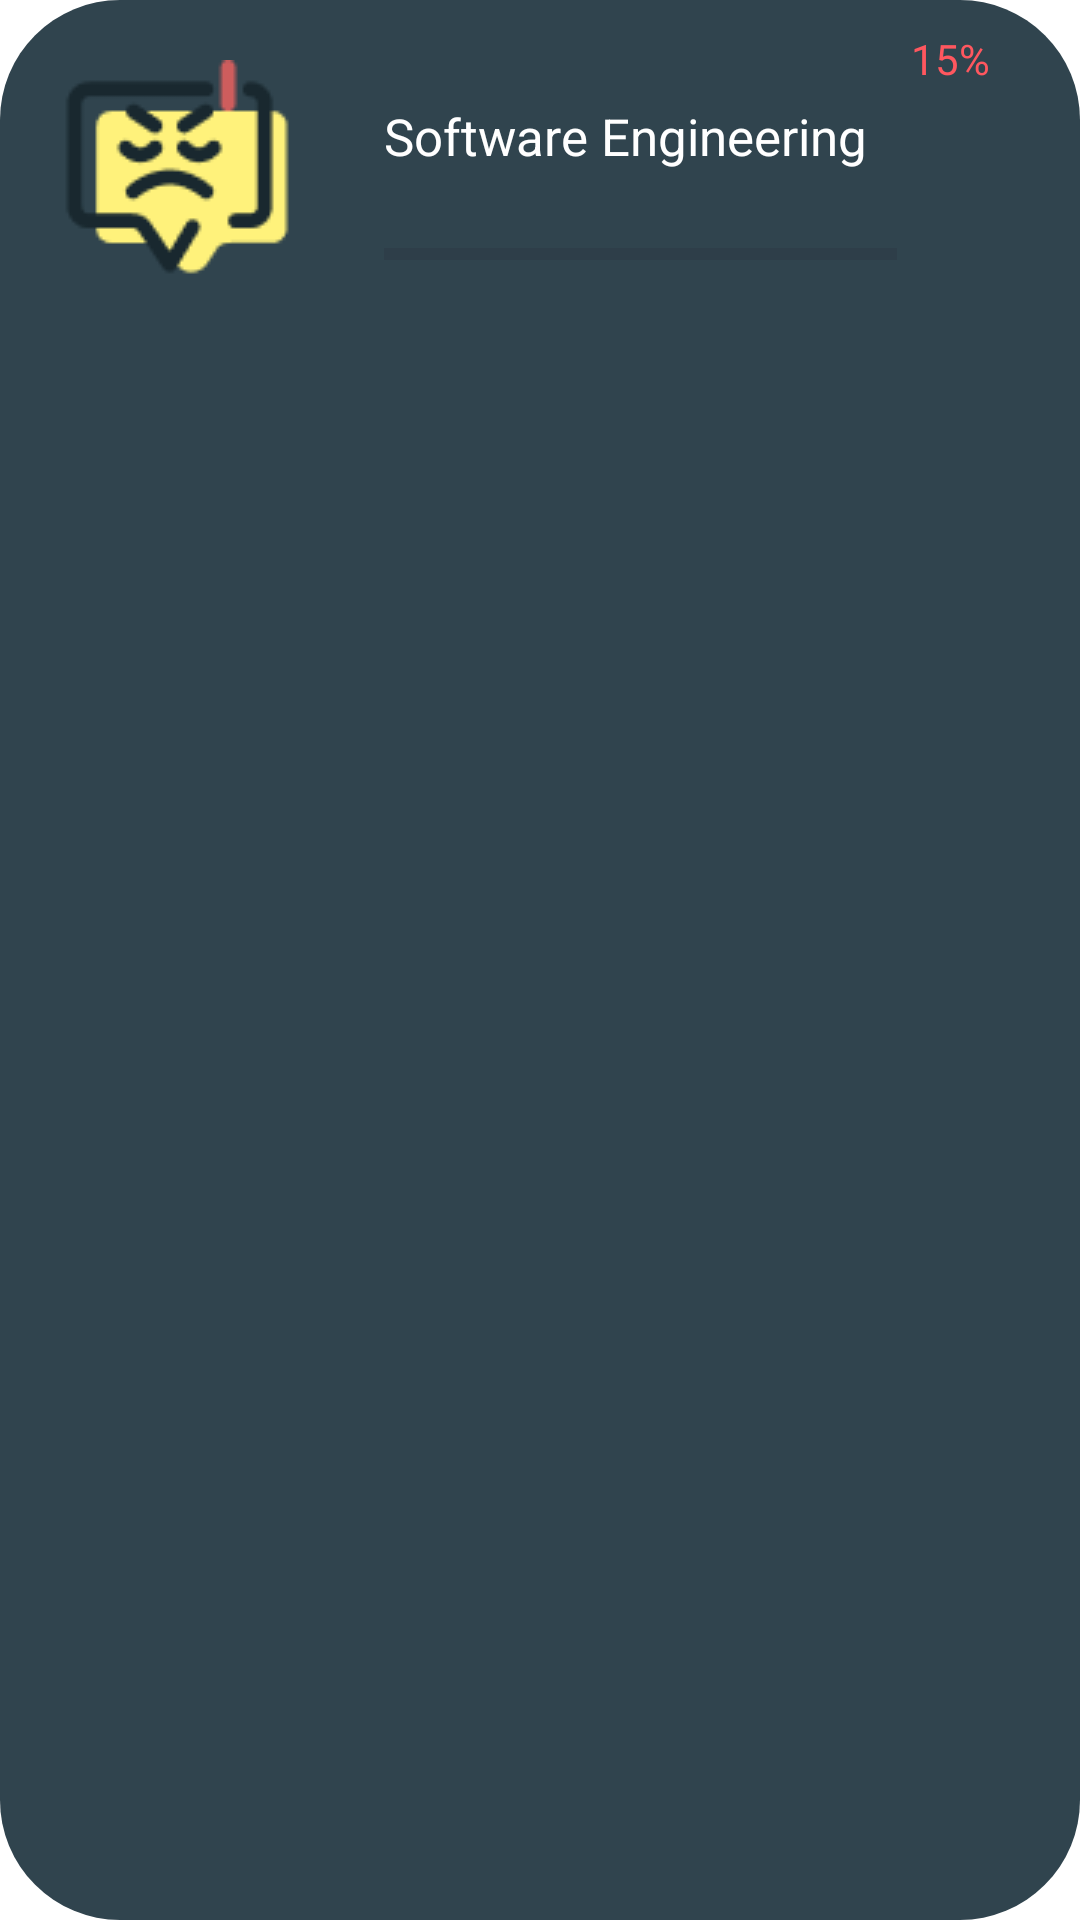

Where icons sit on this 1080 x 1920 app screen, as (x1, y1, x2, y2):
boiled: (69, 60, 289, 274)
